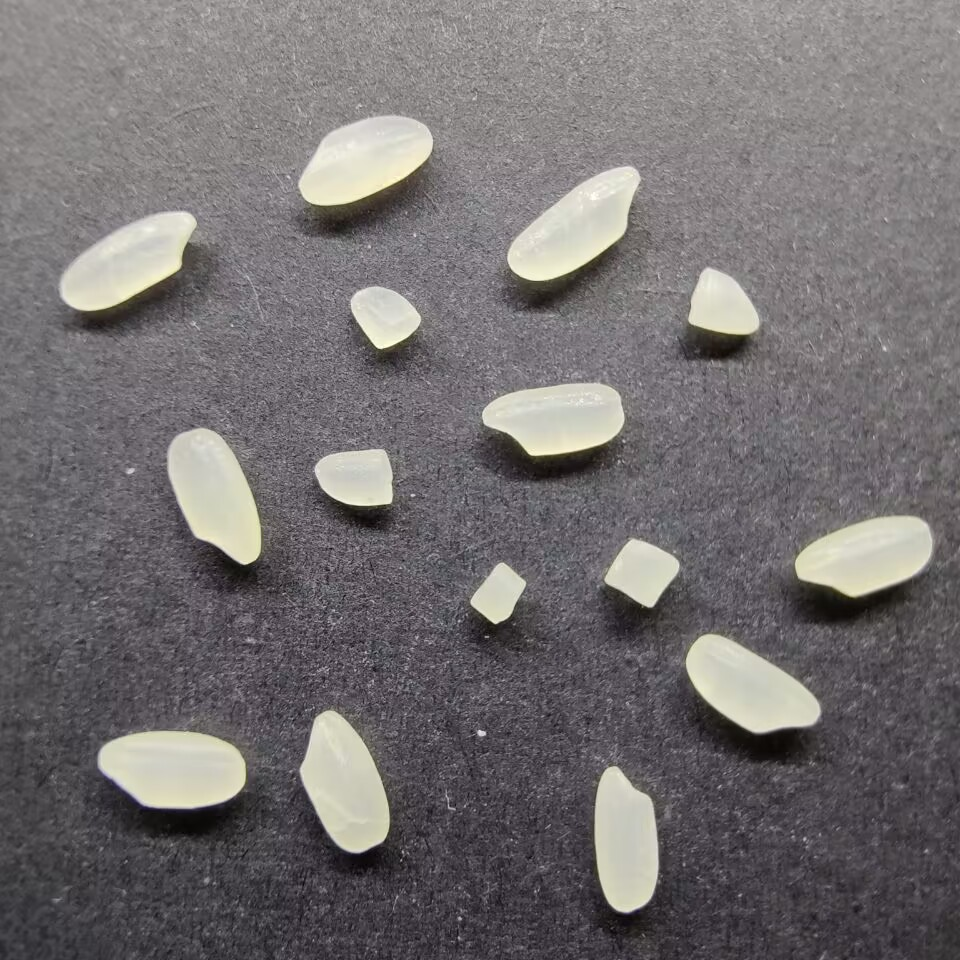broken: (602, 533, 681, 611), (687, 265, 761, 337), (347, 285, 423, 351), (311, 447, 394, 507), (469, 561, 527, 627)
rice: (507, 165, 641, 284), (57, 206, 196, 312), (685, 632, 822, 734), (298, 708, 390, 855), (167, 427, 262, 564), (297, 115, 435, 206), (95, 729, 247, 808), (793, 514, 935, 597), (480, 382, 623, 457), (594, 764, 659, 914)
